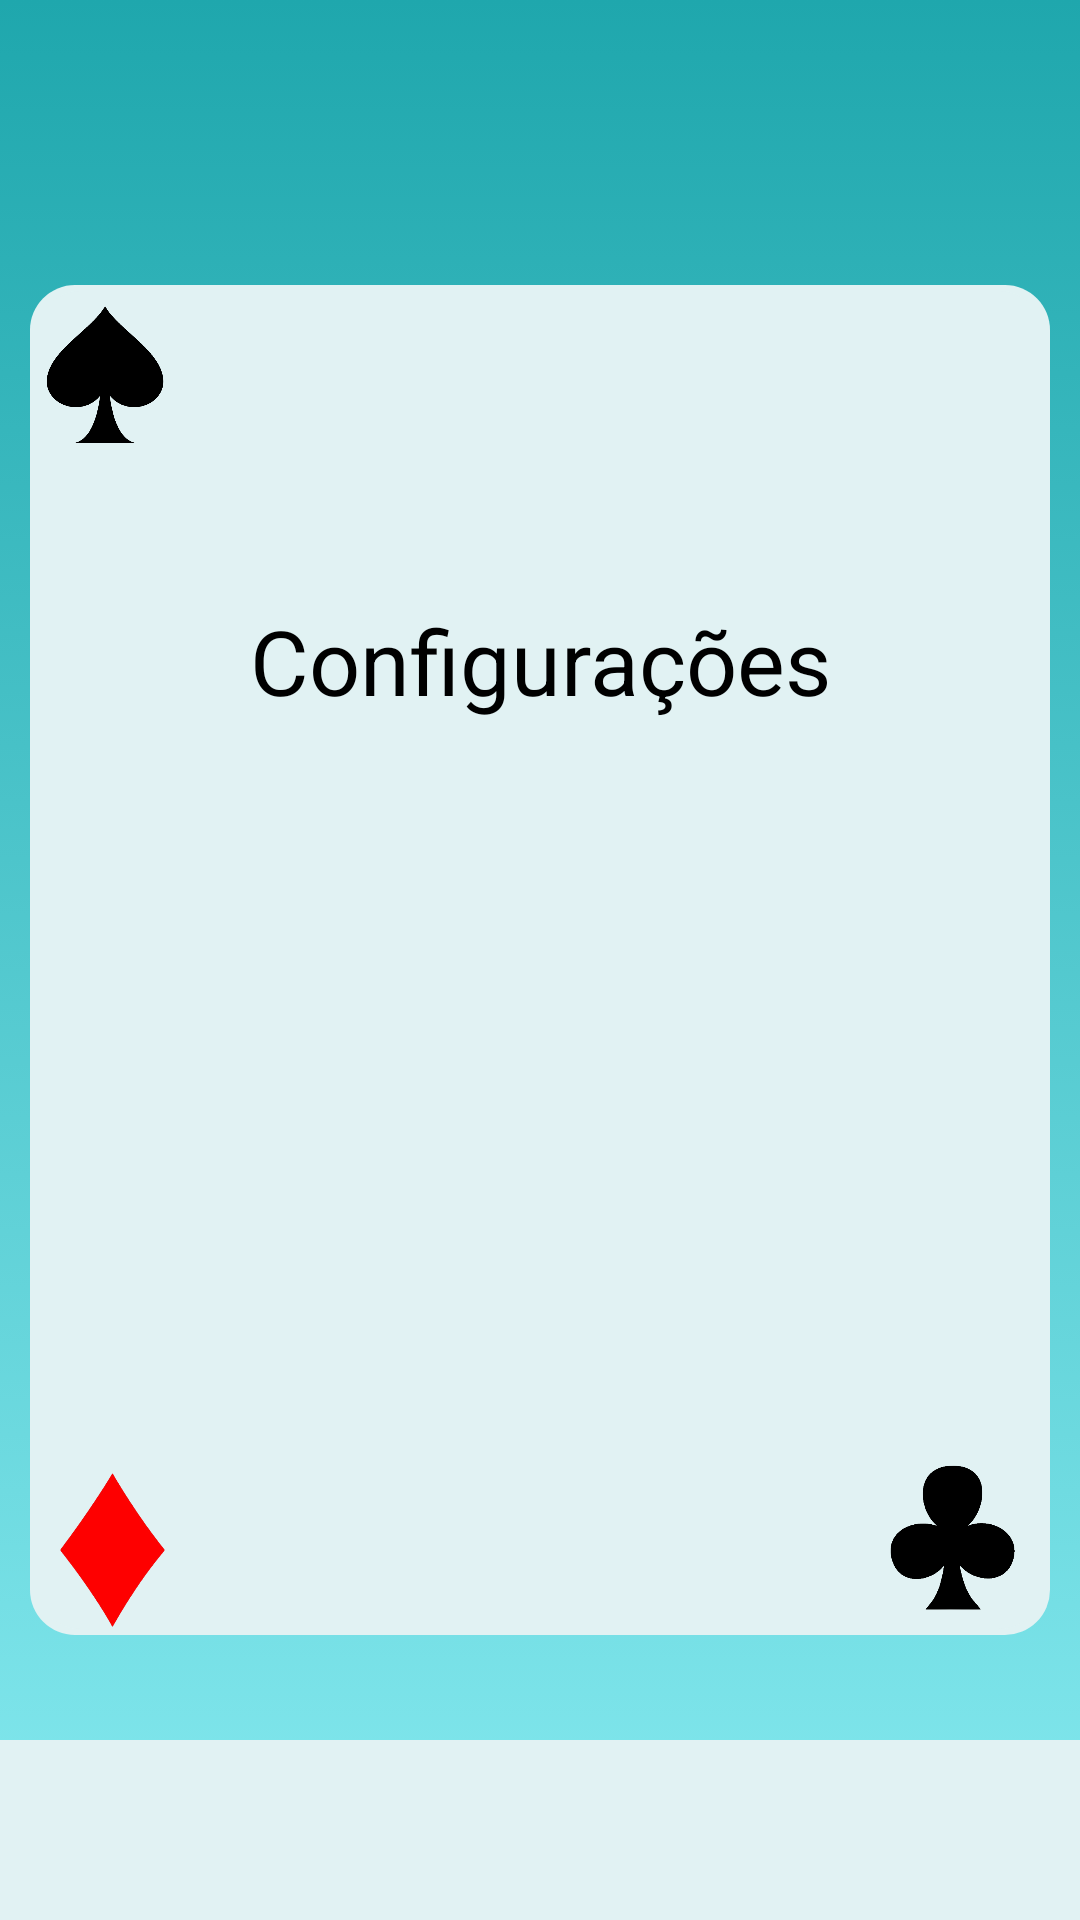

Point at icon controls on the screen. Image size 1080×1920, points as (x,y).
clubs: (952,1537)
diamonds: (112,1552)
spades: (105,375)
